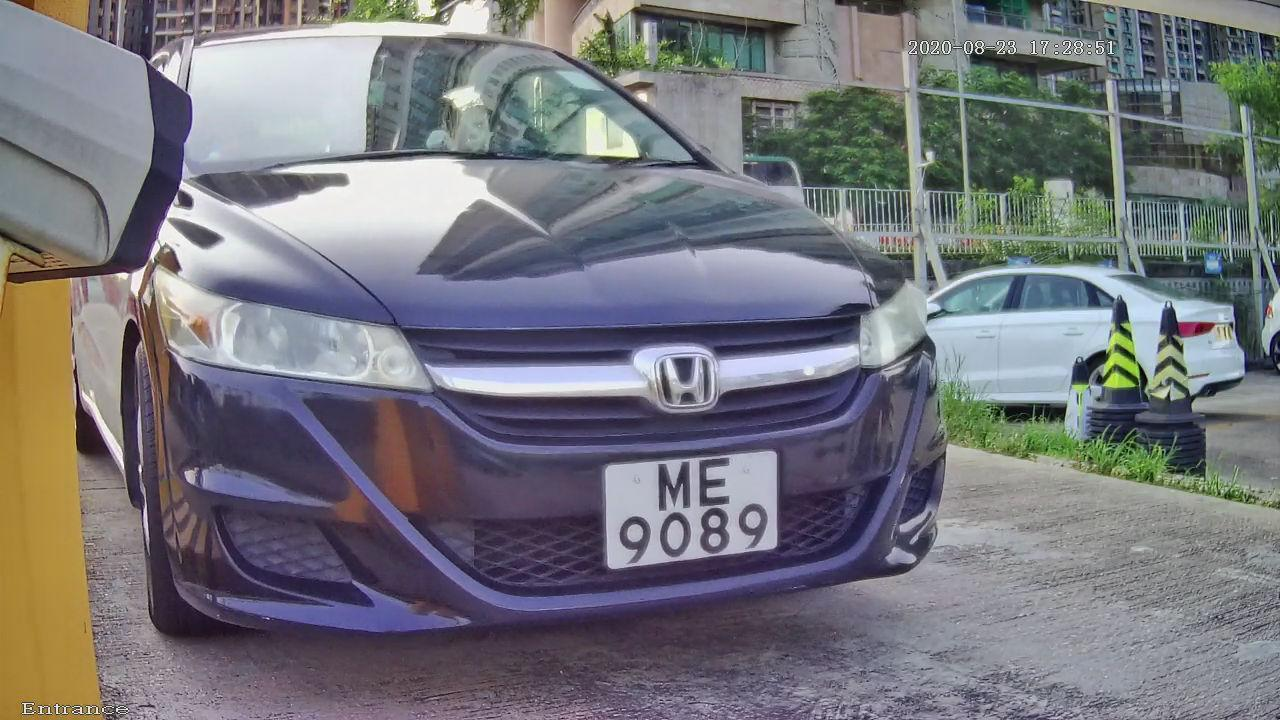Car: (63, 10, 1046, 685)
License Plate: (542, 411, 840, 623)
